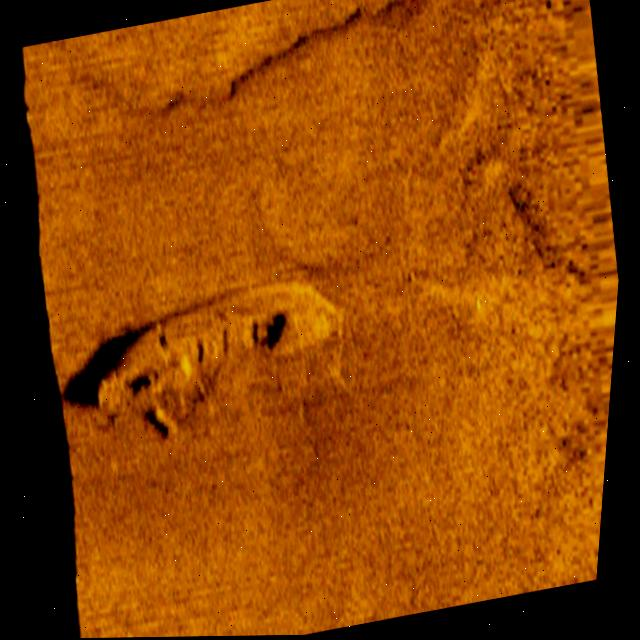shipwreck: (80, 263, 365, 448)
